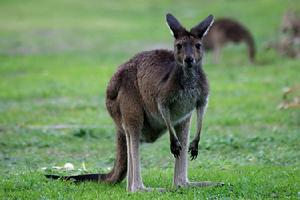kangaroo: (42, 12, 234, 194)
